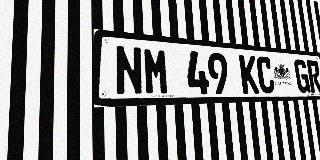4: (186, 51, 210, 95)
9: (207, 52, 230, 94)
C: (256, 56, 275, 94)
G: (293, 59, 311, 93)
K: (239, 55, 259, 94)
M: (143, 47, 170, 95)
N: (114, 45, 144, 96)
R: (306, 60, 320, 93)
